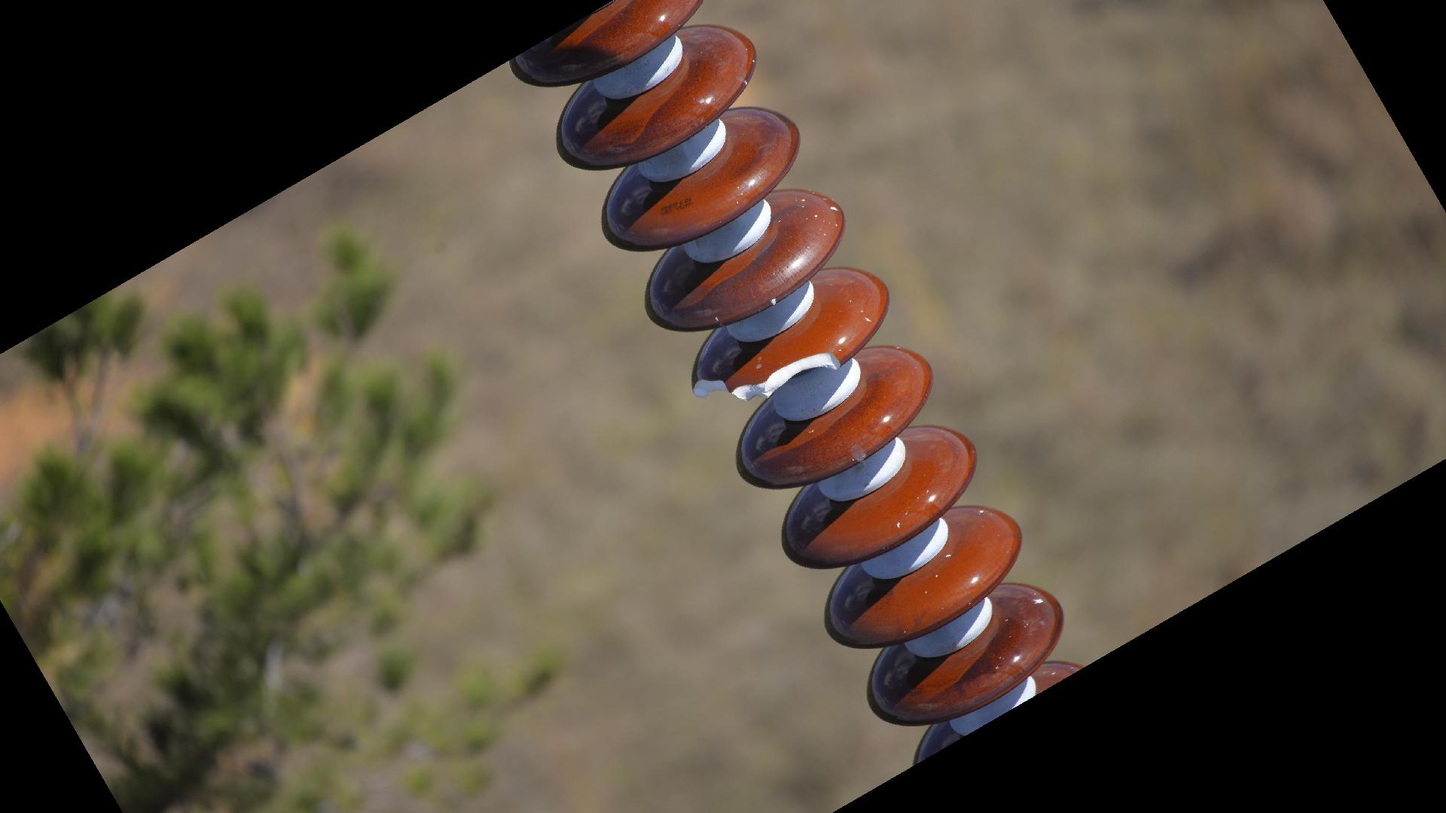insulator: (501, 1, 1103, 776)
insulator_breakage: (688, 347, 847, 406)
